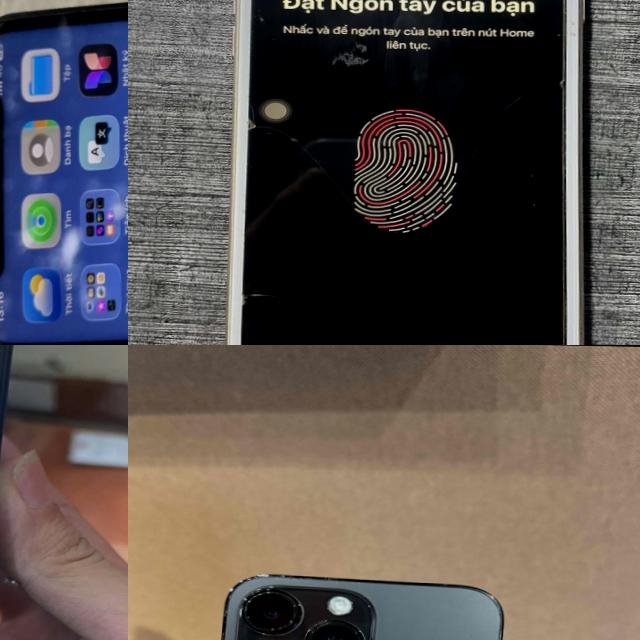physical_damage: (437, 71, 562, 197), (239, 104, 351, 210), (551, 70, 574, 96)
scratch: (320, 35, 381, 79)
